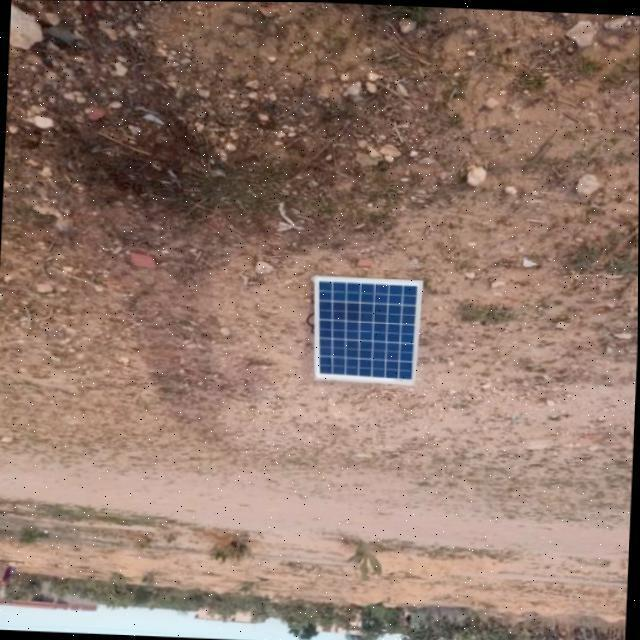Normal Solar Panel: (312, 275, 423, 384)
